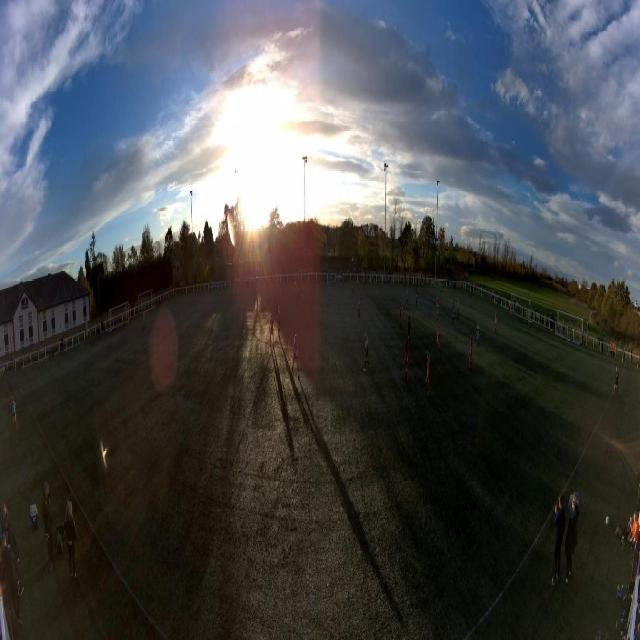player: (291, 335, 300, 377), (364, 332, 371, 373), (404, 340, 410, 382), (425, 354, 430, 395), (269, 313, 275, 344), (406, 316, 412, 344), (469, 337, 473, 369), (437, 321, 441, 351), (399, 300, 403, 328), (476, 321, 480, 347), (451, 302, 455, 326), (357, 296, 361, 320), (436, 296, 439, 320), (301, 291, 304, 312), (457, 298, 460, 317), (278, 306, 281, 325), (143, 310, 146, 328), (495, 311, 497, 333), (351, 280, 354, 294), (406, 285, 408, 304), (416, 289, 418, 307), (509, 304, 511, 318)
